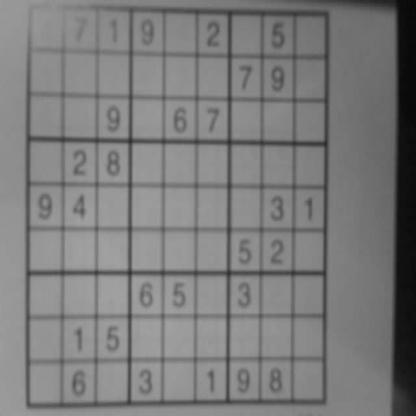sudoku: (23, 1, 332, 412)
